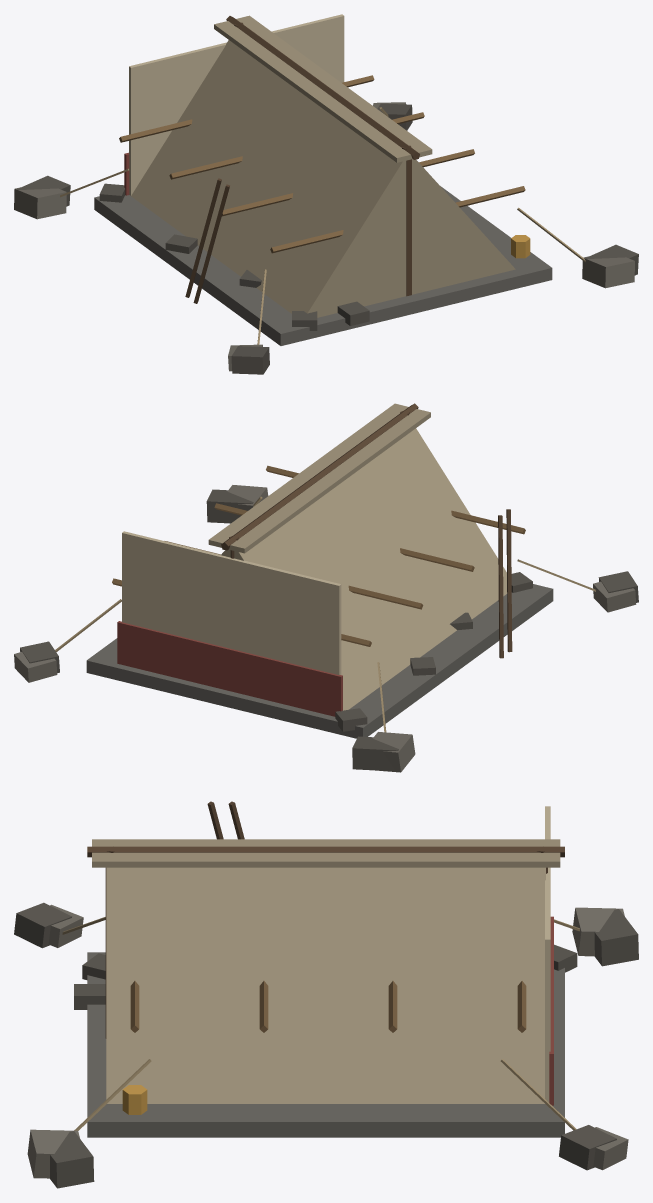
The model's file is M_AFrameHigh.glb.
3 renders of one model, top to bottom at view 1: azimuth 30°, elevation 25°; view 2: azimuth 150°, elevation 25°; view 3: azimuth 270°, elevation 25°, orthographic. The views are drawn at different scales.
Parts seen in each view (by area): view 1: M_AFrameHigh_Structure, M_AFrameHigh_Foundation, M_AFrameHigh_Props, M_AFrameHigh_Roof, M_AFrameHigh_Fixtures; view 2: M_AFrameHigh_Structure, M_AFrameHigh_Foundation, M_AFrameHigh_Props, M_AFrameHigh_Roof, M_AFrameHigh_Fixtures; view 3: M_AFrameHigh_Structure, M_AFrameHigh_Foundation, M_AFrameHigh_Props, M_AFrameHigh_Roof, M_AFrameHigh_Fixtures.
Boxes of the visible parts, x1,y1,x2,y2 form: M_AFrameHigh_Structure: (124,14,515,317); M_AFrameHigh_Foundation: (94,183,552,345); M_AFrameHigh_Props: (14,102,638,374); M_AFrameHigh_Roof: (214,15,432,162); M_AFrameHigh_Fixtures: (119,16,525,296); M_AFrameHigh_Structure: (117,428,507,716); M_AFrameHigh_Foundation: (86,572,553,738); M_AFrameHigh_Props: (14,485,638,772); M_AFrameHigh_Roof: (208,403,430,553); M_AFrameHigh_Fixtures: (112,403,525,646); M_AFrameHigh_Structure: (106,806,553,1105); M_AFrameHigh_Foundation: (74,944,577,1137); M_AFrameHigh_Props: (14,801,638,1188); M_AFrameHigh_Roof: (92,839,560,867); M_AFrameHigh_Fixtures: (87,846,564,1038).
Bounding box in the file's own units: 6.39 × 2.45 × 6.54.
